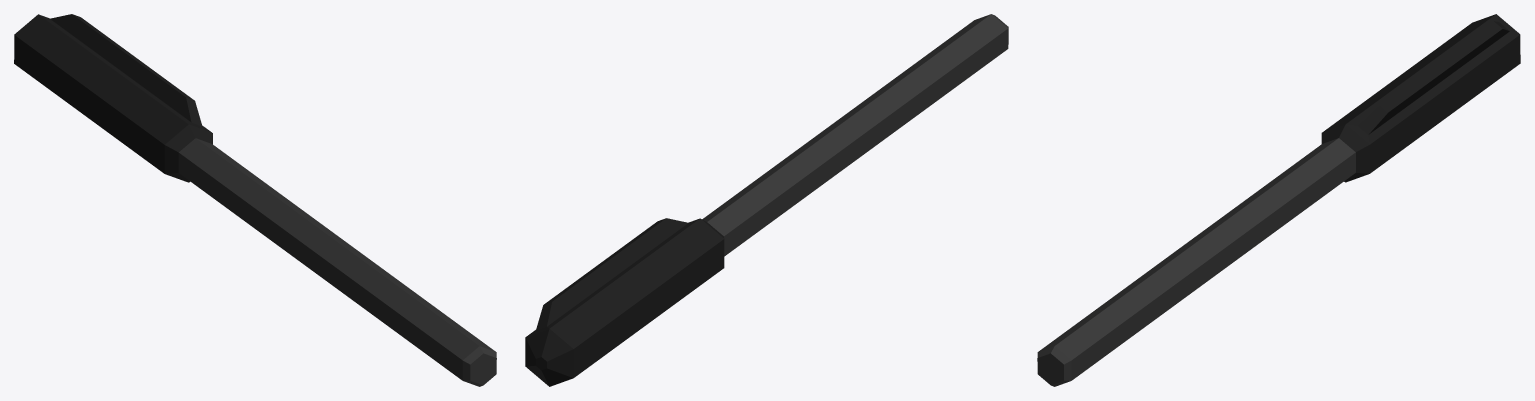
File: PenV1Black.fbx
The picture shows the model from 3 angles, left to right: view 1: azimuth 30°, elevation 25°; view 2: azimuth 150°, elevation 25°; view 3: azimuth 330°, elevation 25°; orthographic projection.
Parts seen in each view (by area): view 1: PenV1Black; view 2: PenV1Black; view 3: PenV1Black.
Part boxes in pixels (bbox=[...]): PenV1Black: bbox=[14, 14, 496, 386]; PenV1Black: bbox=[525, 14, 1008, 386]; PenV1Black: bbox=[1037, 14, 1520, 386].
Bounding box in the file's own units: 0.6611 × 0.8859 × 10.7.
